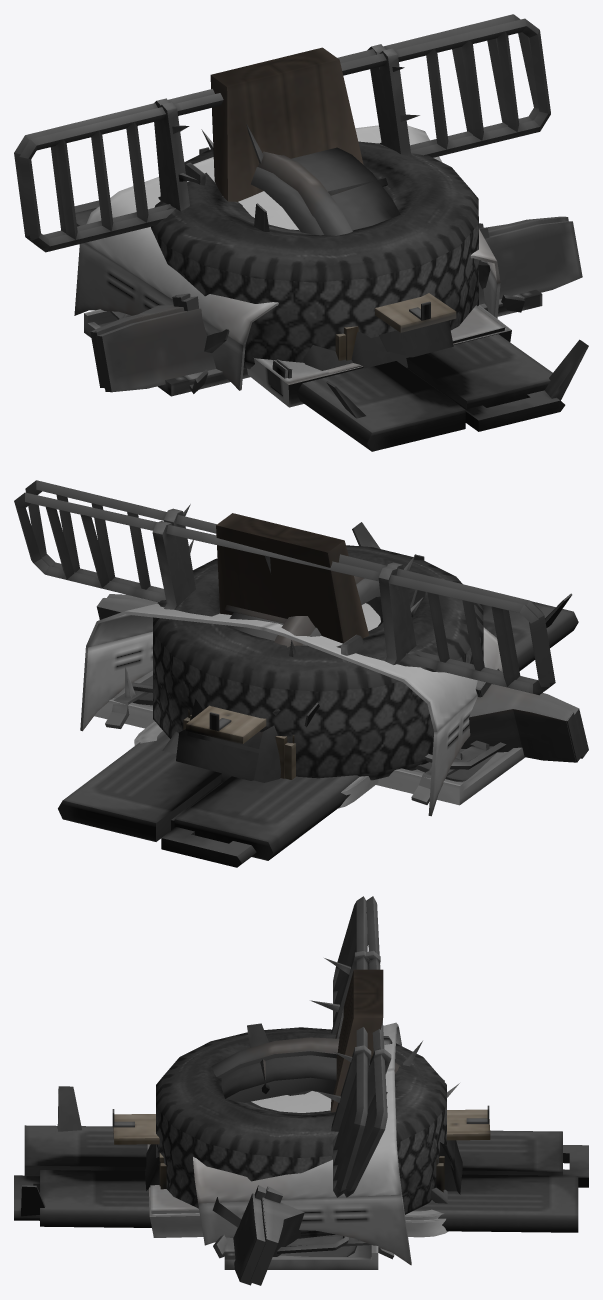
The model's file is Vehicles_49powerWagon_Objects.fbx.
3 renders of one model, top to bottom at view 1: azimuth 30°, elevation 25°; view 2: azimuth 150°, elevation 25°; view 3: azimuth 270°, elevation 25°, orthographic. The views are drawn at different scales.
Visible parts, largest first — view 1: power_tire_paWI, power_bumper1WI, power_sideskirts0WI, power_hoodWI, power_seat_flWI, power_bumper_apocWI, power_fender_rlWI, power_fender_apoc_rlWI, power_sideskirts_apocWI, power_door_flWI, power_seat_truckbedWI, power_tailgateWI (+4 smaller); view 2: power_tire_paWI, power_sideskirts0WI, power_bumper_apocWI, power_hoodWI, power_seat_flWI, power_bumper1WI, power_bumper0WI, power_fender_apoc_rlWI, power_tailgateWI, power_sideskirts_apocWI, power_seat_truckbedWI, power_fender_rlWI (+3 smaller); view 3: power_tire_paWI, power_sideskirts0WI, power_hoodWI, power_bumper1WI, power_bumper_apocWI, power_fender_rlWI, power_fender_apoc_rlWI, power_seat_flWI, power_seat_truckbedWI, power_sideskirts_apocWI, power_bumper0WI, power_tailgateWI (+5 smaller).
Boxes of the visible parts, x1=… form: power_tire_paWI: x1=151, y1=141, x2=478, y2=369; power_bumper1WI: x1=19, y1=18, x2=582, y2=392; power_sideskirts0WI: x1=75, y1=208, x2=552, y2=451; power_hoodWI: x1=74, y1=125, x2=500, y2=390; power_seat_flWI: x1=210, y1=47, x2=363, y2=201; power_bumper_apocWI: x1=14, y1=14, x2=567, y2=388; power_fender_rlWI: x1=251, y1=147, x2=409, y2=368; power_fender_apoc_rlWI: x1=201, y1=124, x2=453, y2=357; power_sideskirts_apocWI: x1=74, y1=200, x2=588, y2=431; power_door_flWI: x1=184, y1=162, x2=511, y2=407; power_seat_truckbedWI: x1=199, y1=147, x2=456, y2=360; power_tailgateWI: x1=84, y1=289, x2=542, y2=396; power_tire_paWI: x1=153, y1=545, x2=483, y2=780; power_sideskirts0WI: x1=58, y1=601, x2=578, y2=860; power_bumper_apocWI: x1=14, y1=492, x2=583, y2=762; power_hoodWI: x1=80, y1=603, x2=502, y2=816; power_seat_flWI: x1=216, y1=513, x2=369, y2=643; power_bumper1WI: x1=25, y1=480, x2=588, y2=758; power_bumper0WI: x1=96, y1=598, x2=575, y2=762; power_fender_apoc_rlWI: x1=176, y1=576, x2=364, y2=782; power_tailgateWI: x1=94, y1=670, x2=524, y2=805; power_sideskirts_apocWI: x1=161, y1=522, x2=572, y2=867; power_seat_truckbedWI: x1=183, y1=554, x2=424, y2=779; power_fender_rlWI: x1=187, y1=578, x2=380, y2=782; power_tire_paWI: x1=156, y1=1027, x2=446, y2=1238; power_sideskirts0WI: x1=24, y1=1125, x2=578, y2=1232; power_hoodWI: x1=193, y1=1022, x2=411, y2=1265; power_bumper1WI: x1=233, y1=896, x2=371, y2=1285; power_bumper_apocWI: x1=212, y1=896, x2=391, y2=1269; power_fender_rlWI: x1=144, y1=1055, x2=457, y2=1191; power_fender_apoc_rlWI: x1=145, y1=1006, x2=463, y2=1194; power_seat_flWI: x1=330, y1=969, x2=383, y2=1112; power_seat_truckbedWI: x1=112, y1=1105, x2=490, y2=1192; power_sideskirts_apocWI: x1=14, y1=1086, x2=588, y2=1220; power_bumper0WI: x1=250, y1=1186, x2=304, y2=1285; power_tailgateWI: x1=224, y1=1237, x2=378, y2=1269.
Bounding box in the file's own units: 1.89 × 0.8017 × 2.05.
